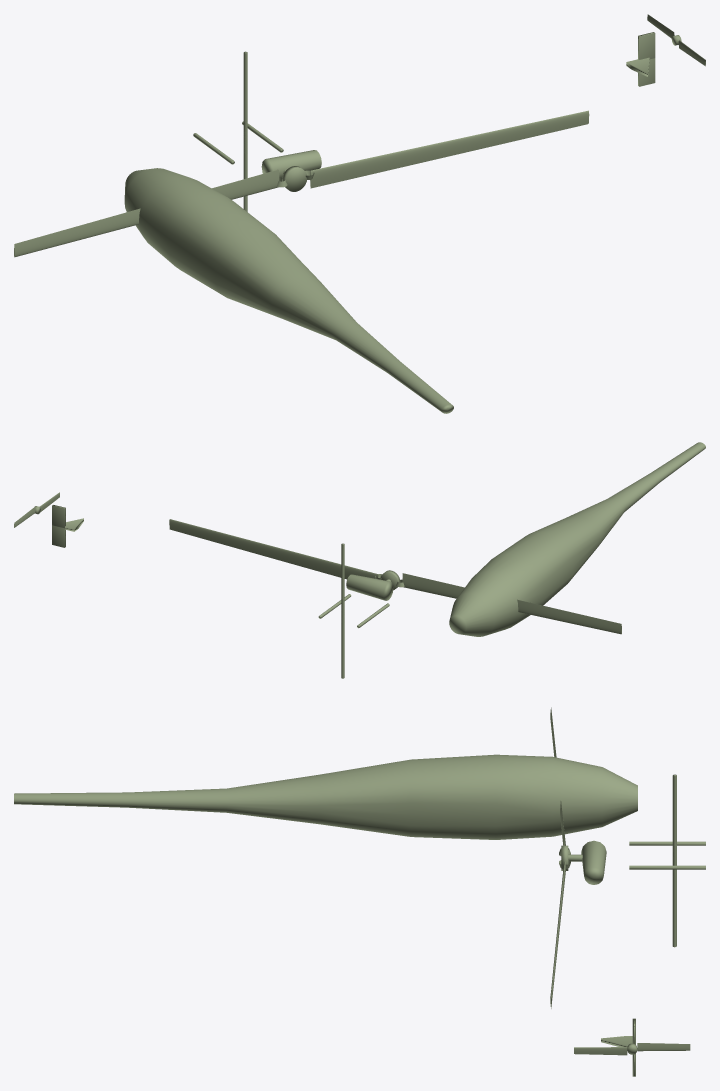
Rendered from ab206_normal.glb.
3 views of the same model, one above another, from view 1: azimuth 30°, elevation 25°; view 2: azimuth 150°, elevation 25°; view 3: azimuth 270°, elevation 25° (orthographic). The views are drawn at different scales.
Size of the model in its own units: 11.54 by 2.66 by 9.76.
